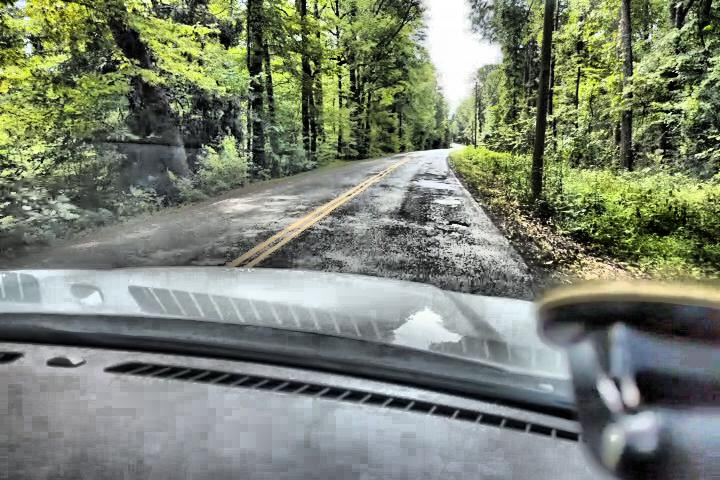pothole: (448, 216, 472, 232)
